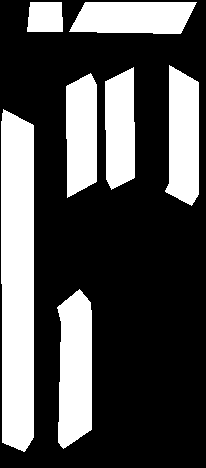parkingspot: (1, 109, 33, 451), (57, 289, 91, 448), (165, 65, 198, 205), (69, 2, 196, 33), (66, 73, 96, 197), (105, 67, 134, 189), (27, 2, 62, 31)
